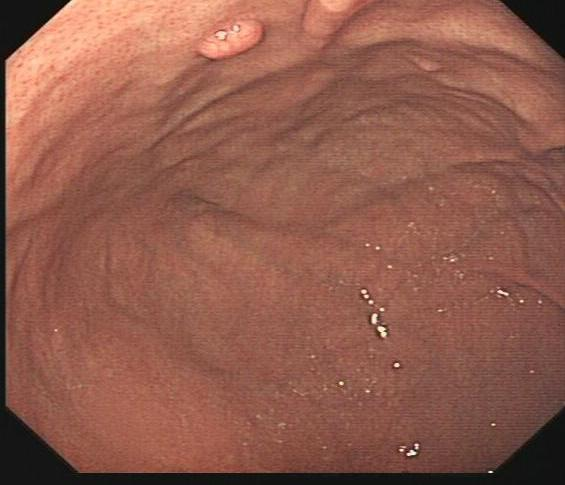Polyp: (193, 12, 270, 64)
